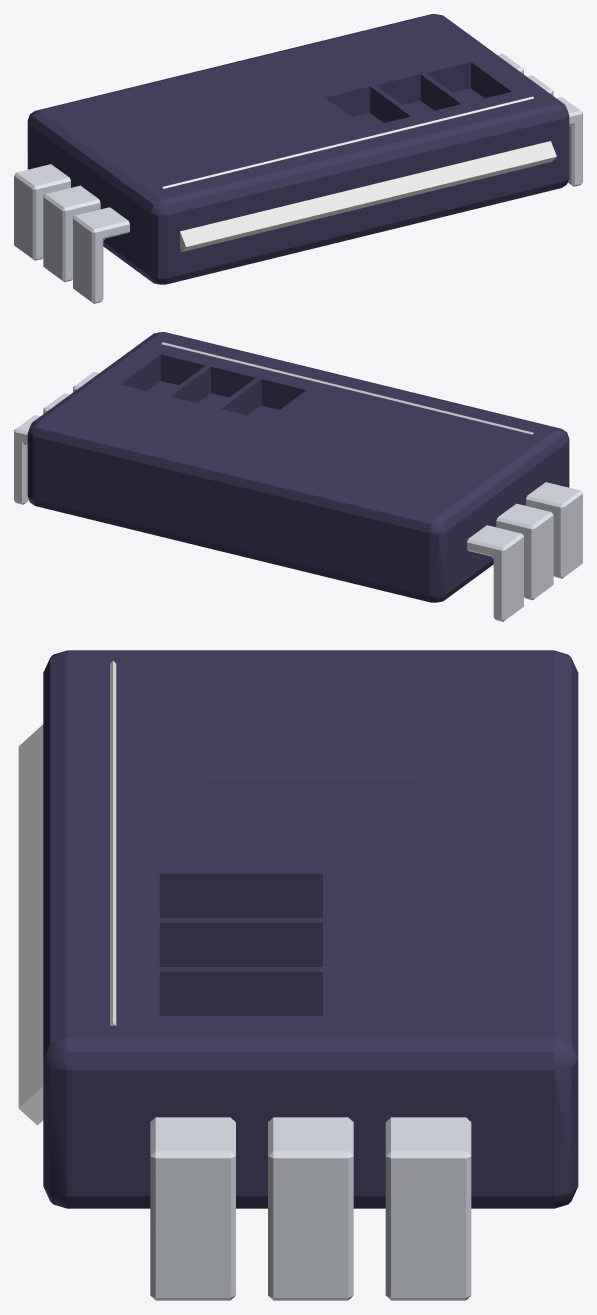
File: chip_socketed.glb
3 views of the same model, one above another, from view 1: azimuth 30°, elevation 25°; view 2: azimuth 150°, elevation 25°; view 3: azimuth 270°, elevation 25° (orthographic). The views are drawn at different scales.
Visible parts, largest first — view 1: Body, Pins, Display; view 2: Body, Pins, Display; view 3: Body, Pins, Display.
Part boxes in pixels (x1,y1,x2,y2): Body: (27, 14, 569, 284); Pins: (14, 54, 582, 303); Display: (162, 96, 556, 251); Body: (27, 332, 569, 602); Pins: (14, 372, 582, 621); Display: (162, 342, 533, 434); Body: (43, 650, 578, 1208); Pins: (150, 1117, 471, 1300); Display: (18, 661, 116, 1125).
Bounding box in the file's own units: 42.4 × 9.12 × 20.92.
